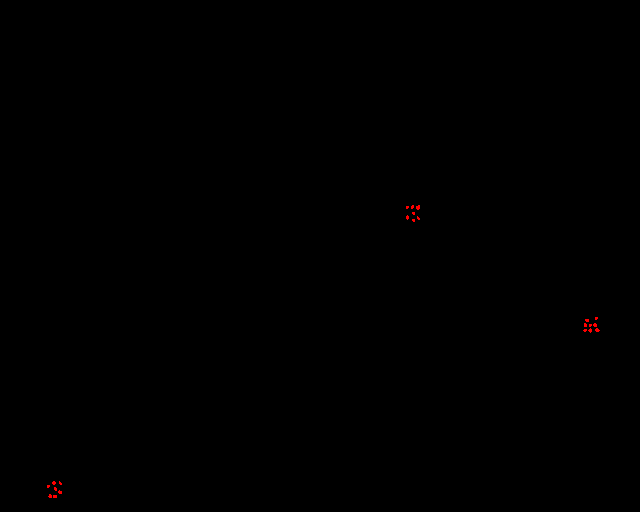Target: (416, 205, 420, 210), (588, 328, 592, 333), (595, 328, 600, 332), (593, 323, 597, 327), (52, 481, 56, 485), (58, 490, 62, 494), (48, 494, 52, 498), (406, 215, 409, 220), (411, 205, 414, 209), (417, 216, 420, 220), (585, 319, 589, 322), (584, 323, 587, 327), (583, 329, 587, 332), (59, 481, 62, 485), (54, 487, 57, 491), (53, 495, 57, 498), (406, 206, 409, 209), (412, 212, 415, 215), (412, 219, 415, 222), (595, 317, 598, 320), (589, 324, 592, 327), (47, 485, 50, 488)
